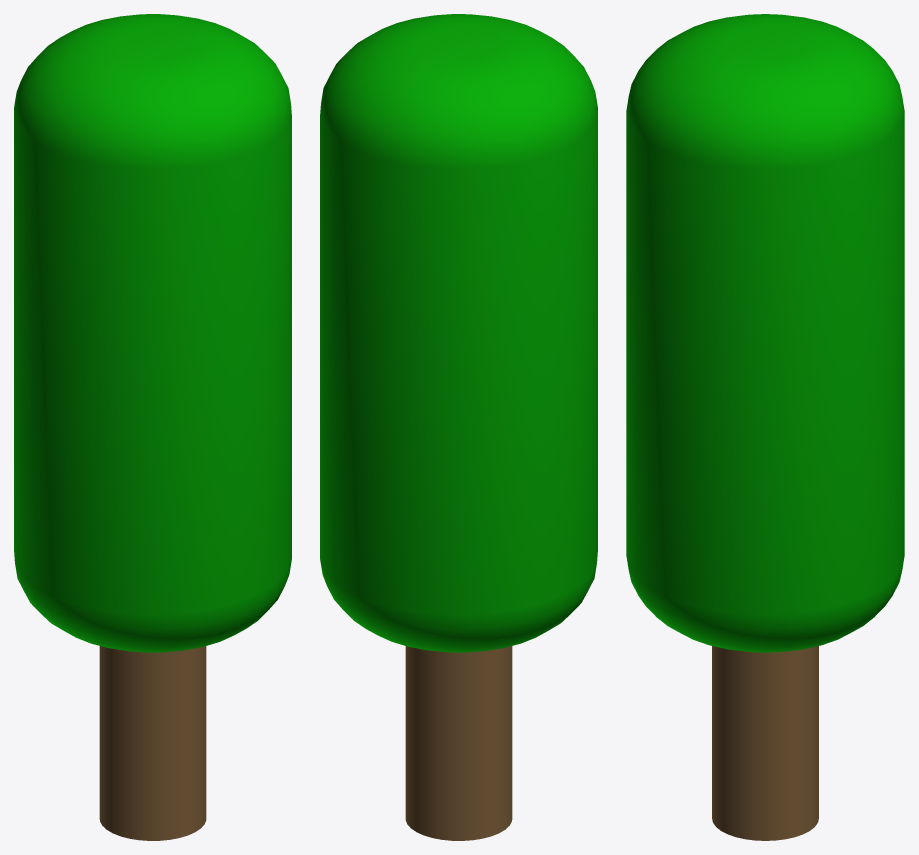
The model's file is tree_03.fbx.
3 views of the same model, side by side, from view 1: azimuth 30°, elevation 25°; view 2: azimuth 150°, elevation 25°; view 3: azimuth 270°, elevation 25° (orthographic).
Visible parts, largest first — view 1: tree_03; view 2: tree_03; view 3: tree_03.
Boxes of the visible parts, left/top/right/bottom form: tree_03: left=14, top=14, right=291, bottom=840; tree_03: left=320, top=14, right=597, bottom=840; tree_03: left=626, top=14, right=904, bottom=840.
Bounding box in the file's own units: 130 × 400 × 130.
